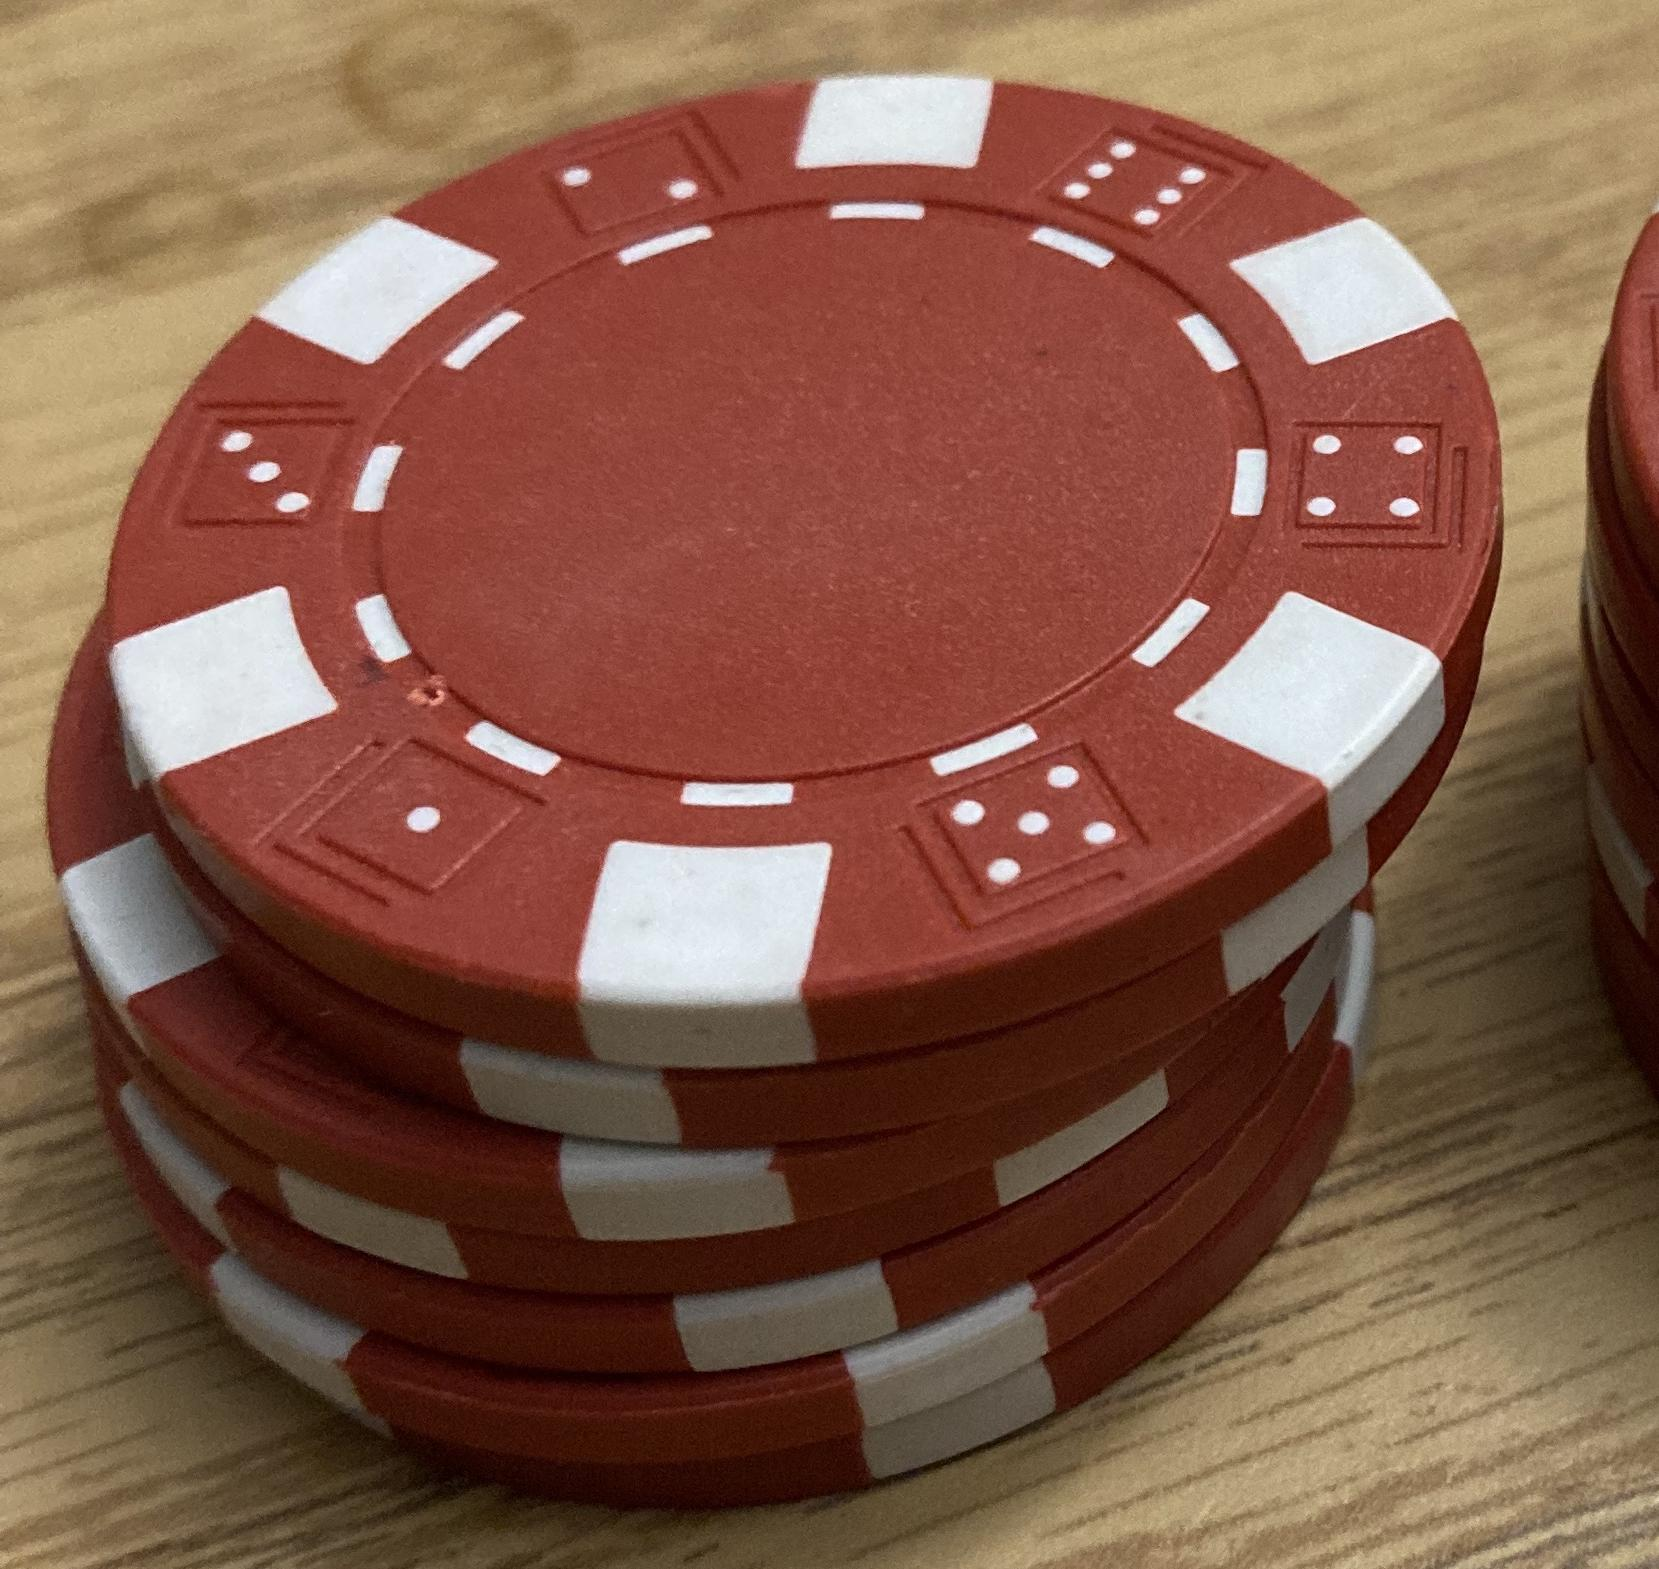Chip: (1, 1, 1659, 1569)
